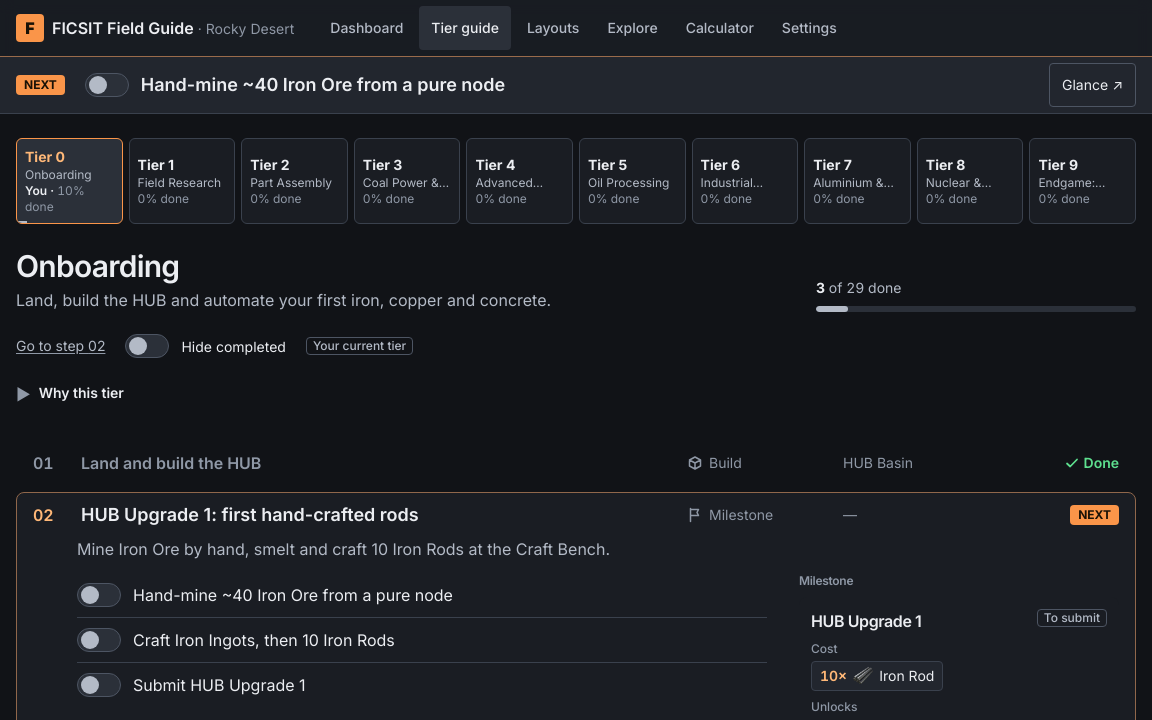
Scenario: tier guide › hides finished steps when asked and remembers it
The width and height of the screenshot is (1152, 720).
Click the switch labelled "Hide completed" at (206, 346), box top-left (125, 324), bottom-right (286, 368)
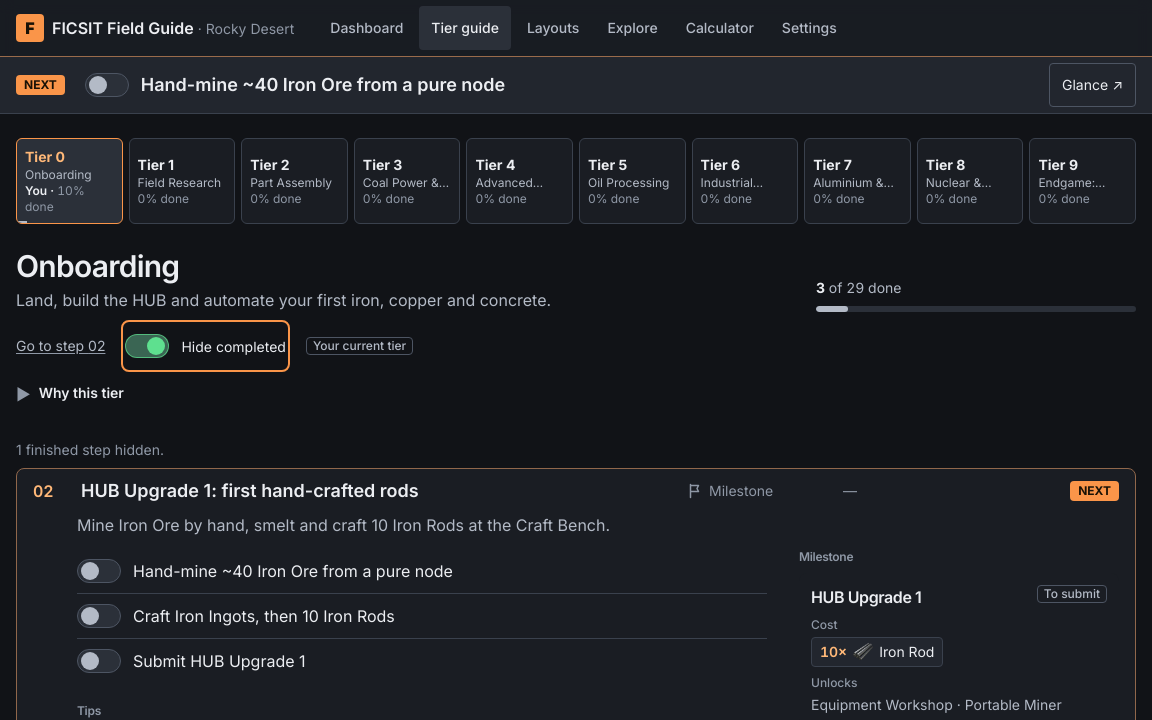
Expected: the text "1 finished step hidden." is shown, top-left (16, 441), bottom-right (164, 458)
